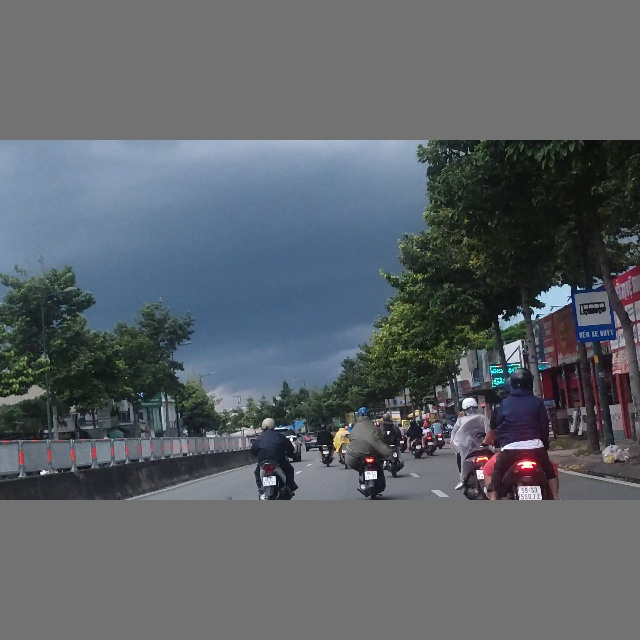I.434a: (571, 286, 618, 342)
